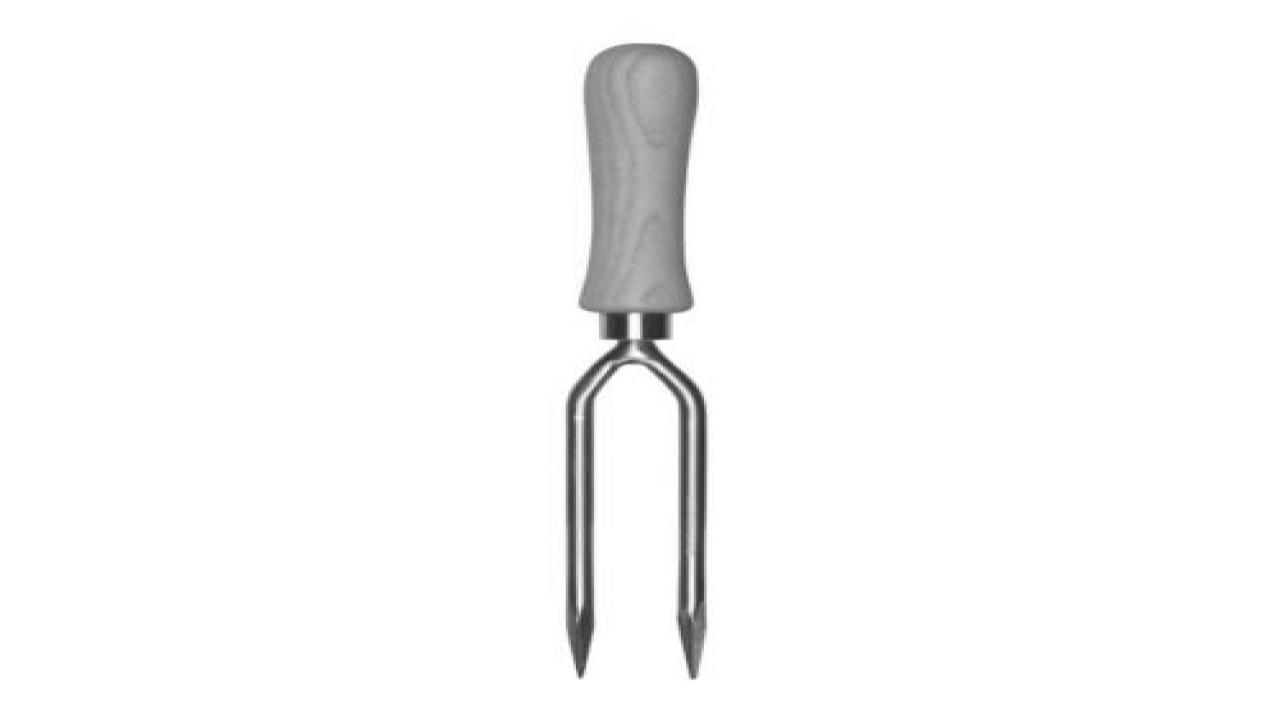fork: (561, 42, 709, 680)
